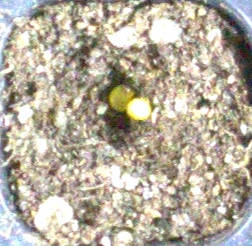pepper seed: (51, 38, 203, 159), (38, 27, 177, 140)
